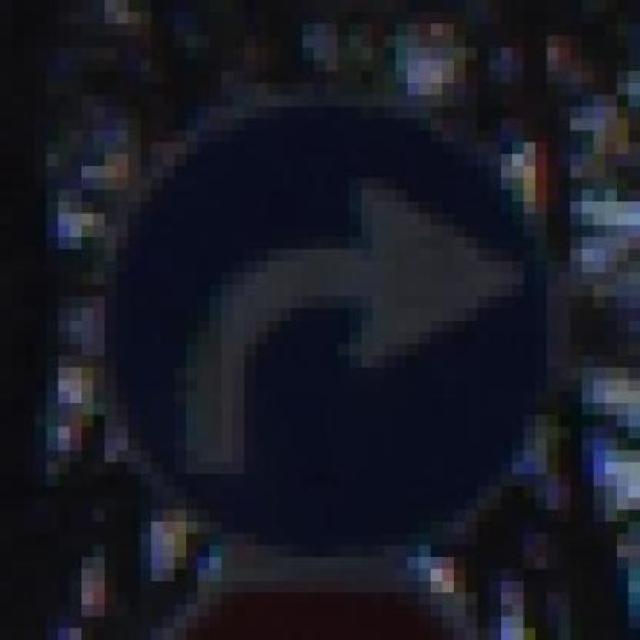Turn right ahead: (99, 74, 576, 560)
